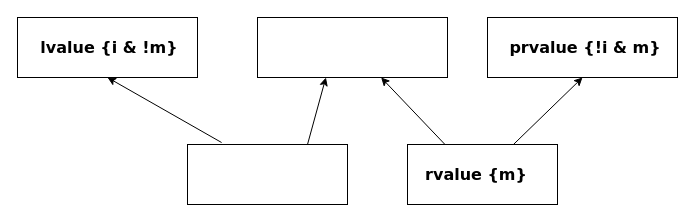
Image size: 695x222. Some labels were removed from this diagram. The shapes that lost their labels are listed below. From the top down, each one's box as (x1, y1, x2, y2) in pixels, then its label:
(256, 16, 448, 78): xvalue {i & m}
(186, 144, 348, 204): glvalue {i}
